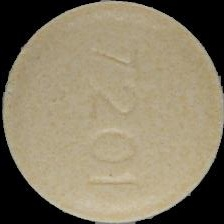51079-458: (0, 0, 224, 224)
